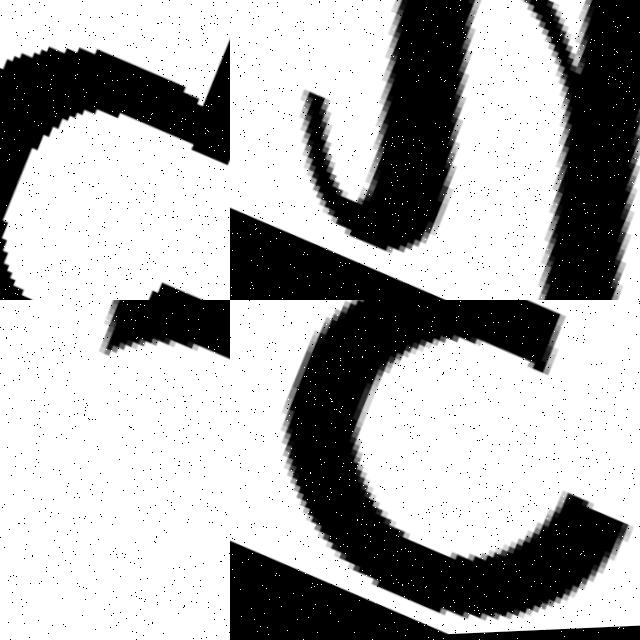3: (230, 300, 640, 640)
5: (0, 0, 230, 300)
H: (294, 0, 458, 251), (520, 0, 640, 300)
R: (0, 300, 230, 640)
